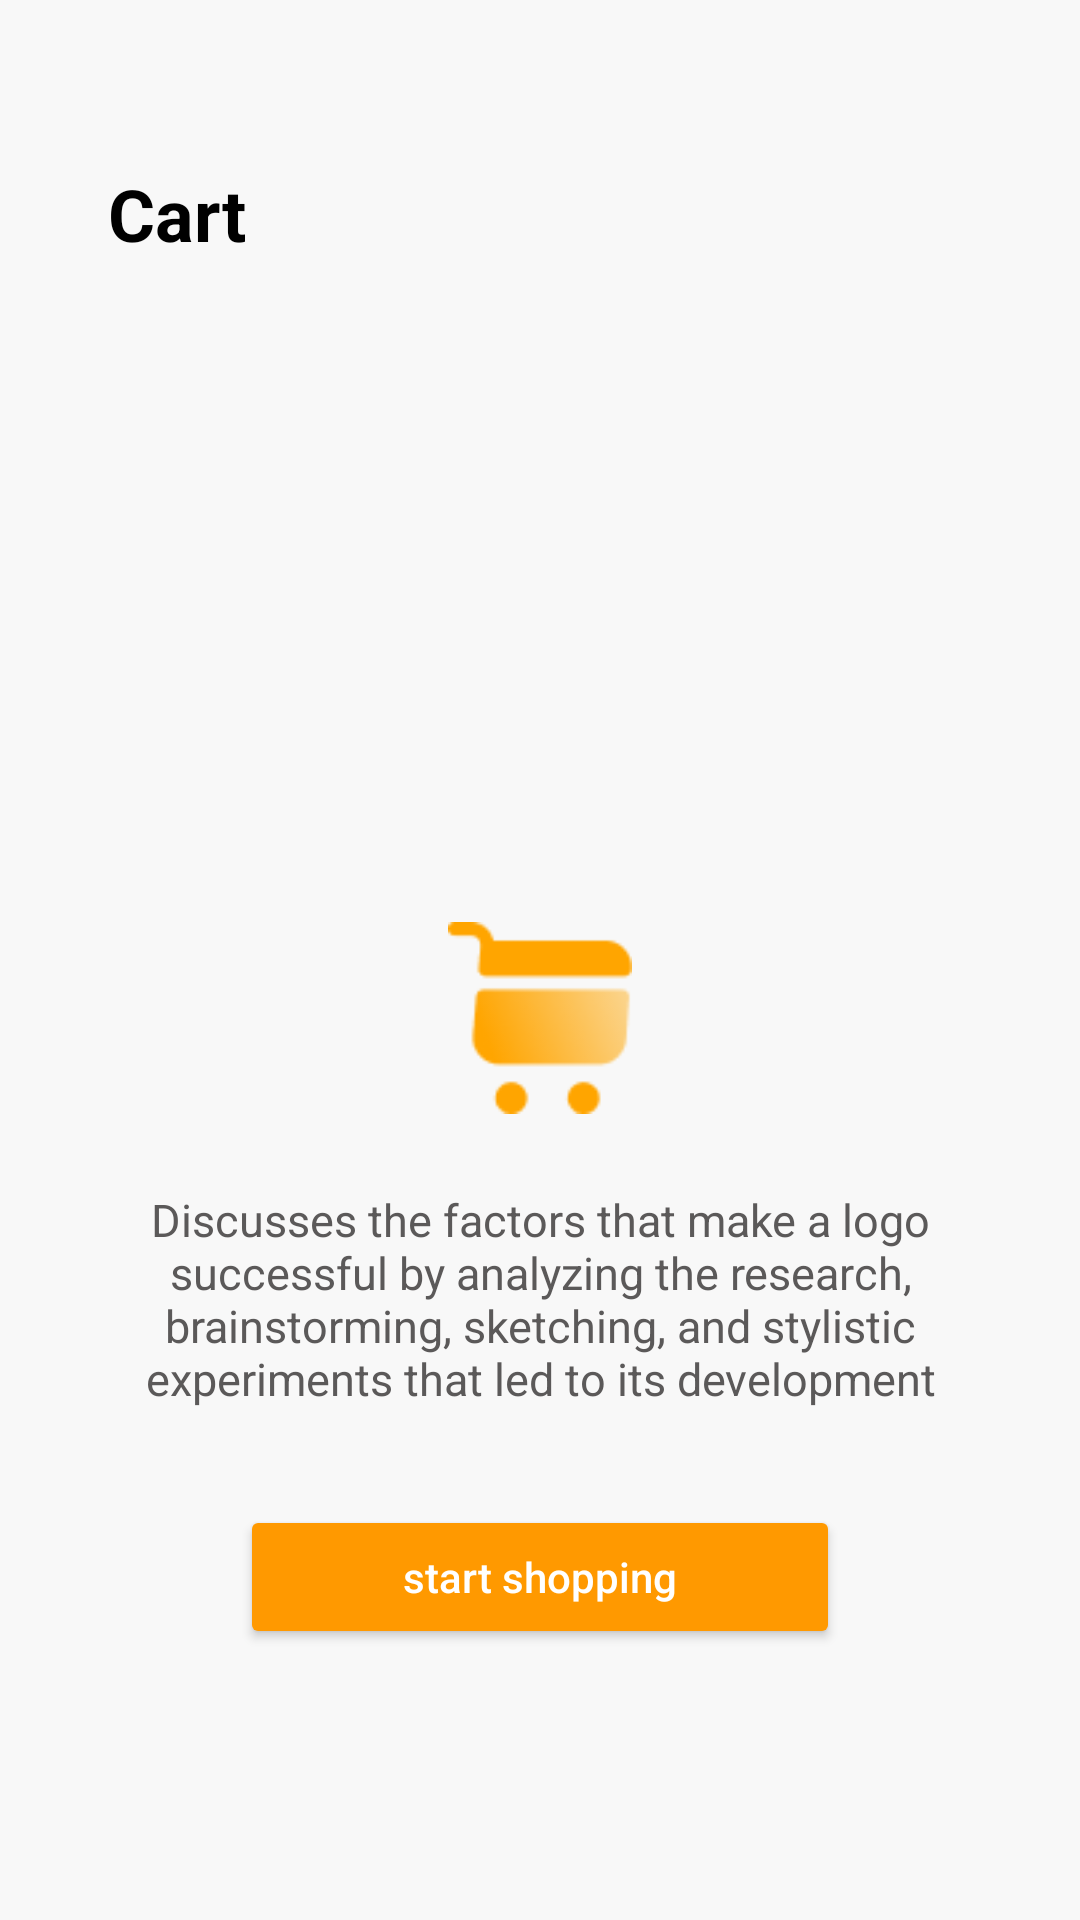

Icon bounding boxes for this 1080w x 1920h phone screenshot, format (x1, y1, x2, y2):
shopping Cart: (448, 922, 632, 1114)
